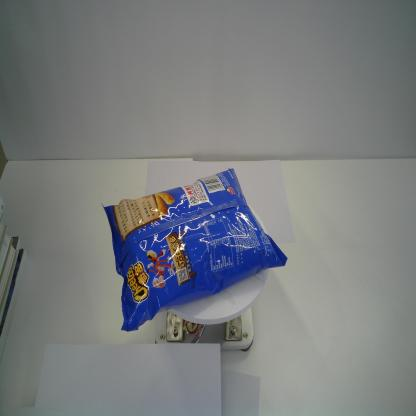Puffed Food: (100, 166, 288, 333)
